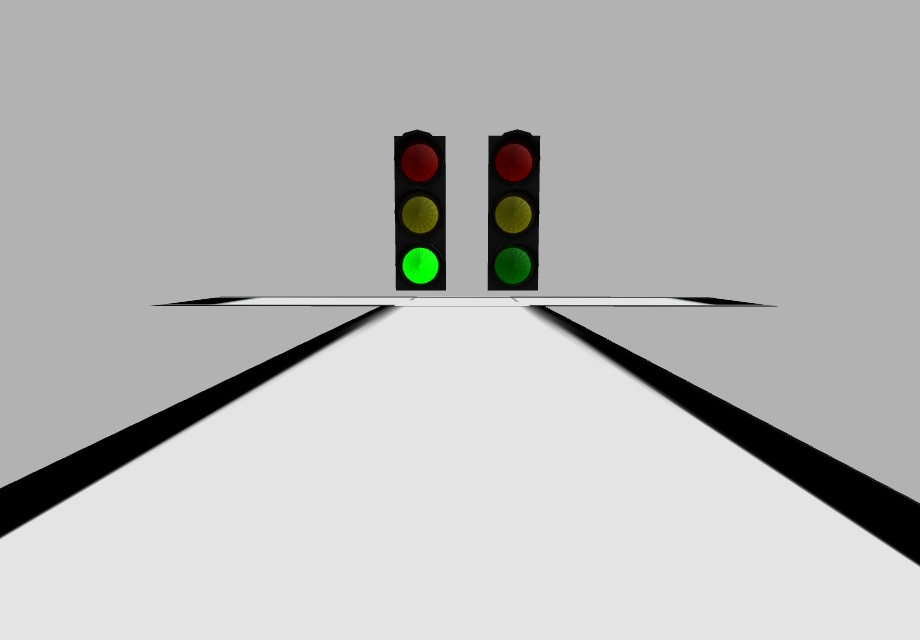green_off: (494, 246, 531, 287)
green_on: (402, 247, 441, 288)
